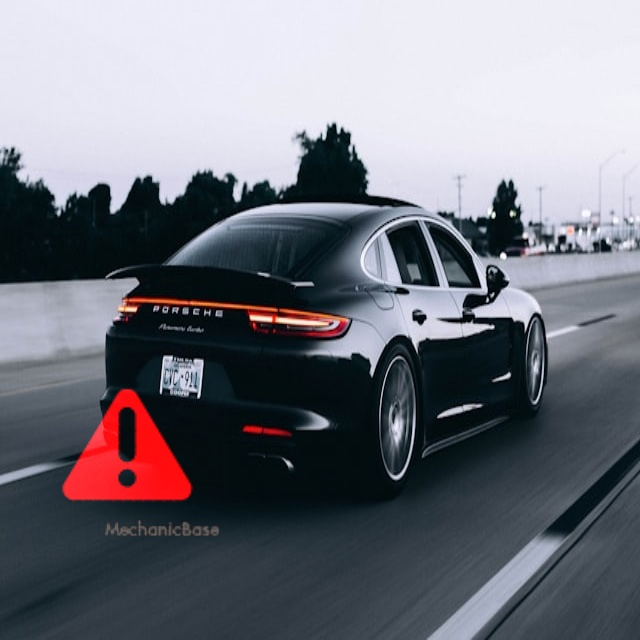symbol: (26, 345, 227, 546), (497, 73, 630, 206)
